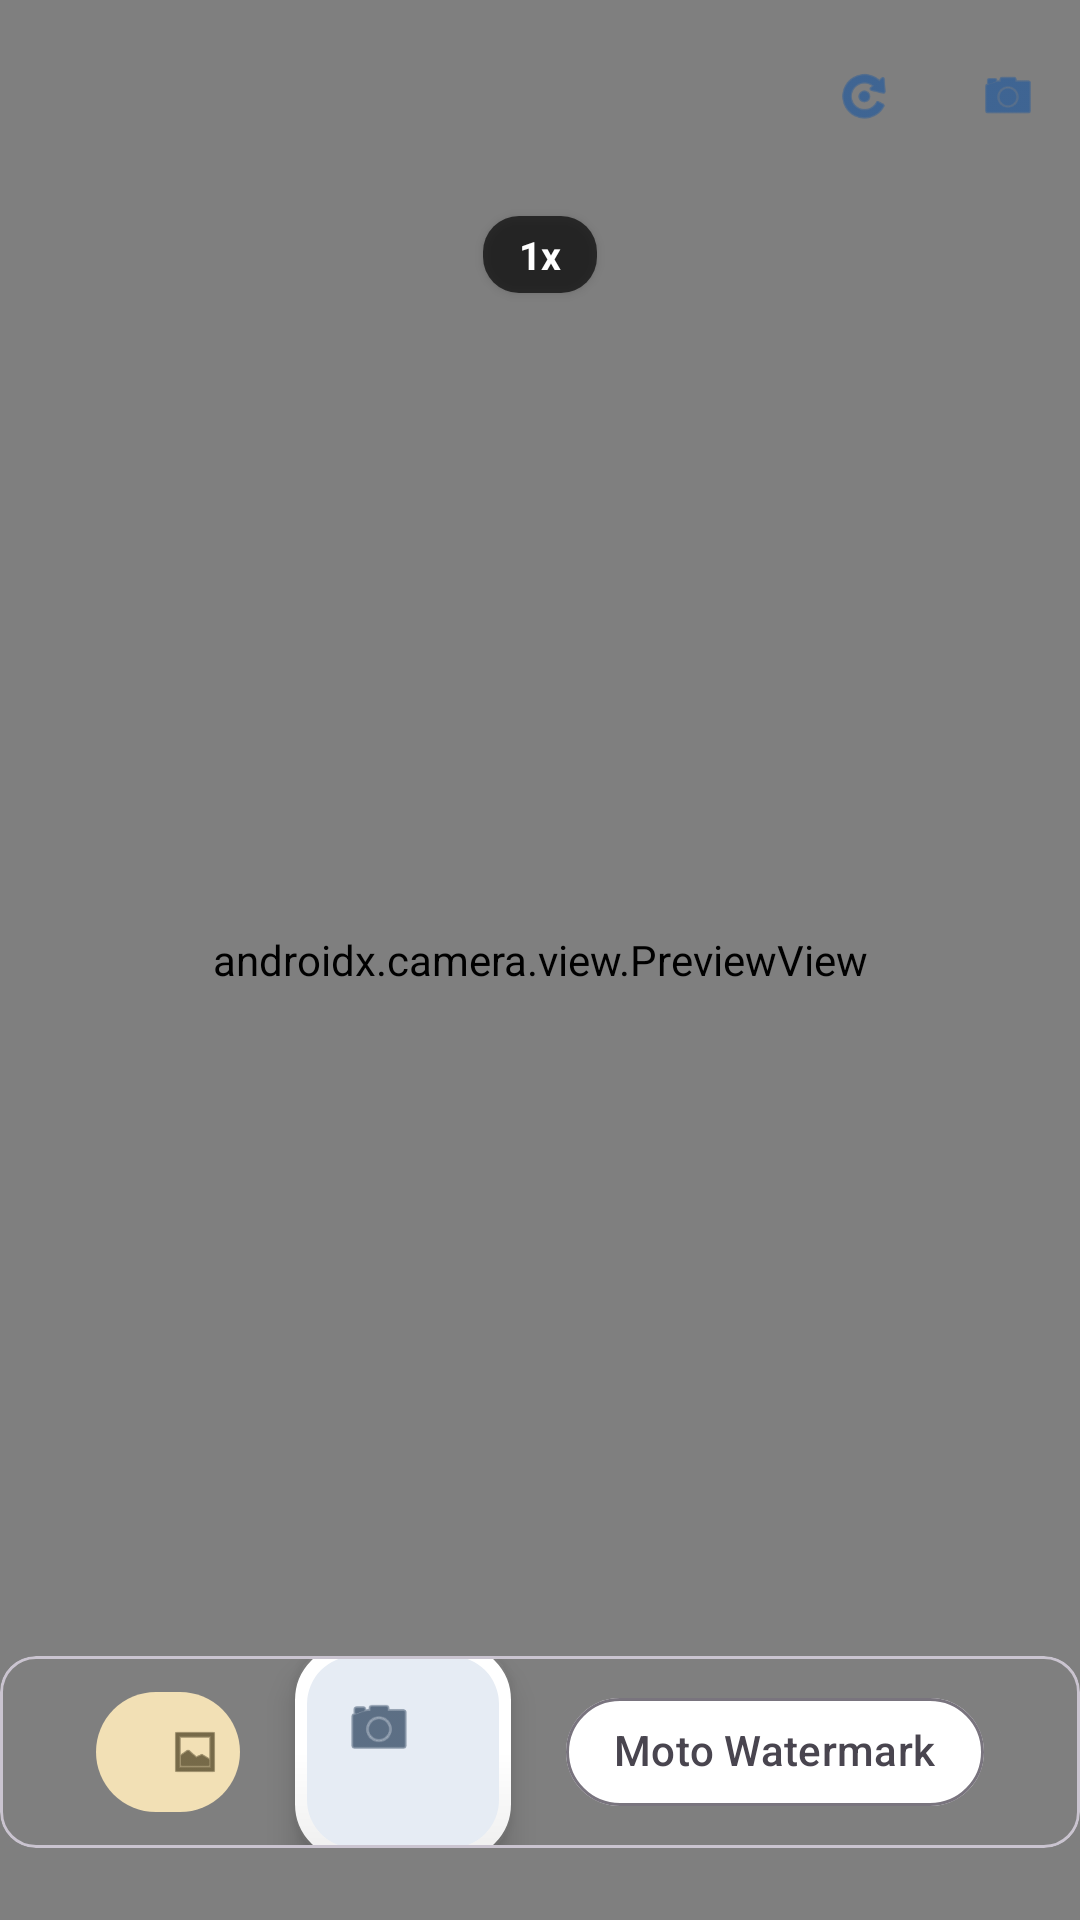

Screen size 1080 × 1920. Icon name, then its center in pixels as (x=x, y=y):
Gallery: (x=168, y=1752)
Switch Camera: (x=864, y=96)
